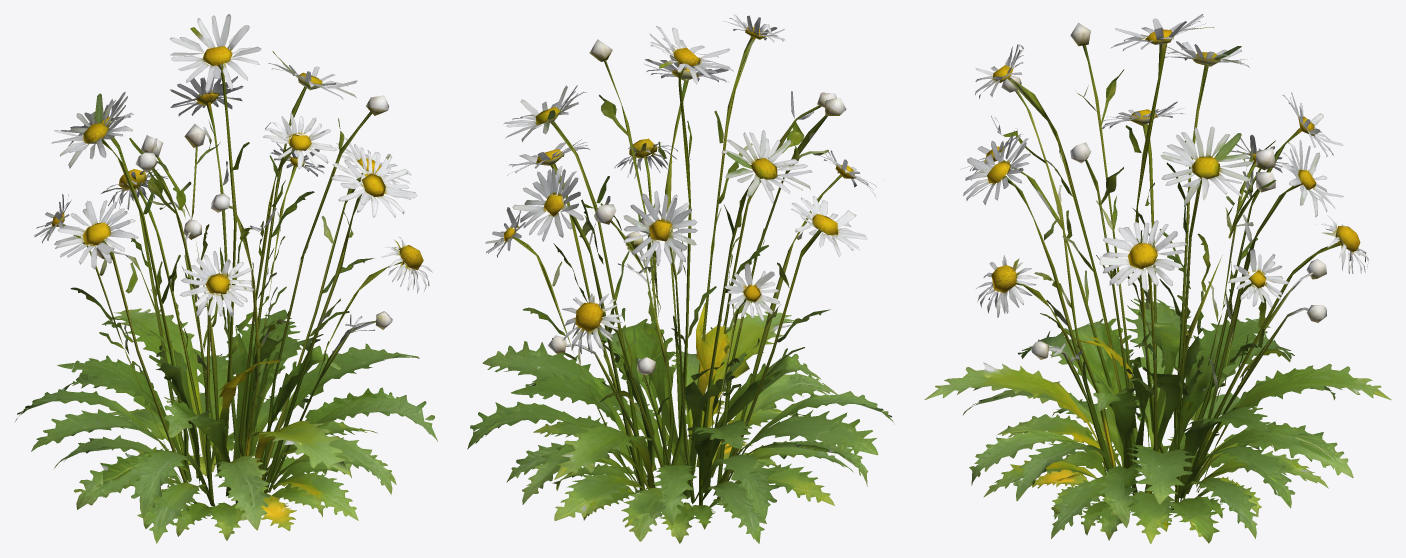
The model's file is margaritas_1_LOD1.glb.
3 renders of one model, left to right at view 1: azimuth 30°, elevation 25°; view 2: azimuth 150°, elevation 25°; view 3: azimuth 270°, elevation 25°, orthographic. The views are drawn at different scales.
Parts seen in each view (by area): view 1: tripo_node_9859cf5e-fe7d-4159-aad5-e9121052a4d0; view 2: tripo_node_9859cf5e-fe7d-4159-aad5-e9121052a4d0; view 3: tripo_node_9859cf5e-fe7d-4159-aad5-e9121052a4d0.
Part boxes in pixels (x1,y1,x2,y2): tripo_node_9859cf5e-fe7d-4159-aad5-e9121052a4d0: [15, 14, 437, 543]; tripo_node_9859cf5e-fe7d-4159-aad5-e9121052a4d0: [467, 14, 894, 543]; tripo_node_9859cf5e-fe7d-4159-aad5-e9121052a4d0: [924, 14, 1391, 543].
Bounding box in the file's own units: 0.8779 × 1 × 0.8772.
Materials: 1 (1 with a texture image).
